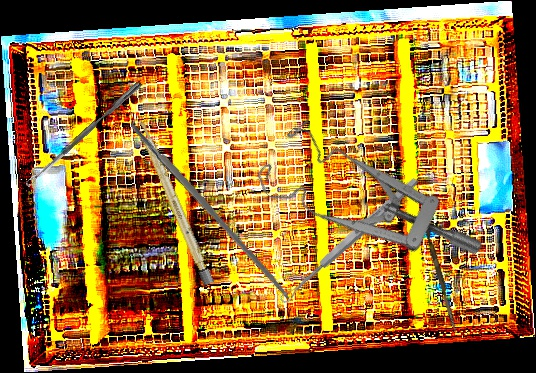Pusher: (421, 224, 461, 333)
Scalpel Handle: (128, 120, 294, 302), (134, 118, 215, 287)
Speculum: (246, 87, 484, 331)
Surgical Spoon: (277, 175, 421, 306), (24, 79, 143, 188)
